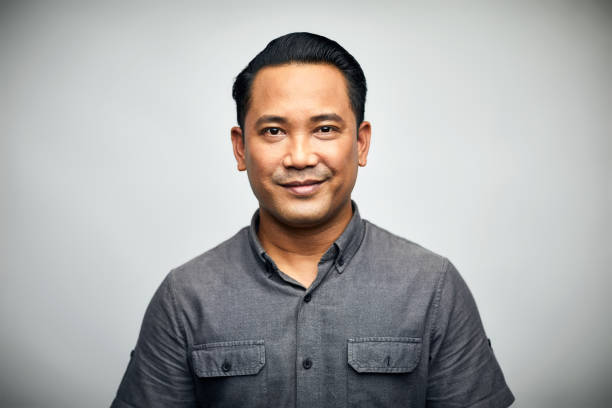person: (229, 31, 373, 233)
